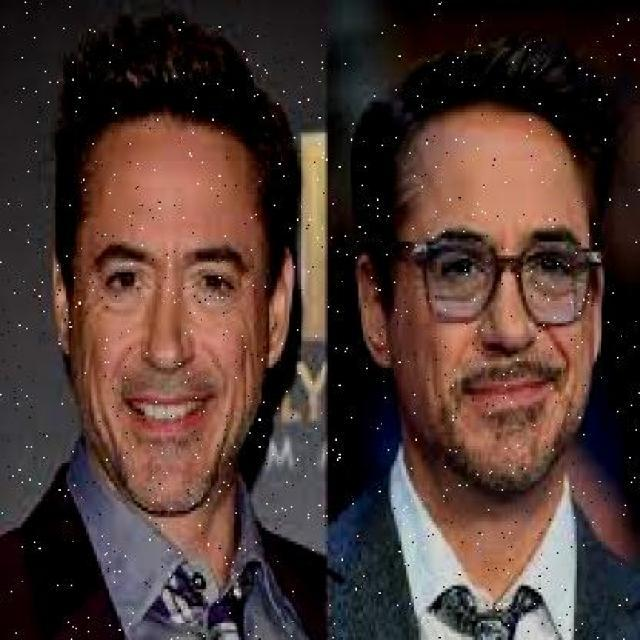mask: (406, 224, 600, 330)
